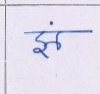anusvara: (49, 21, 53, 25)
